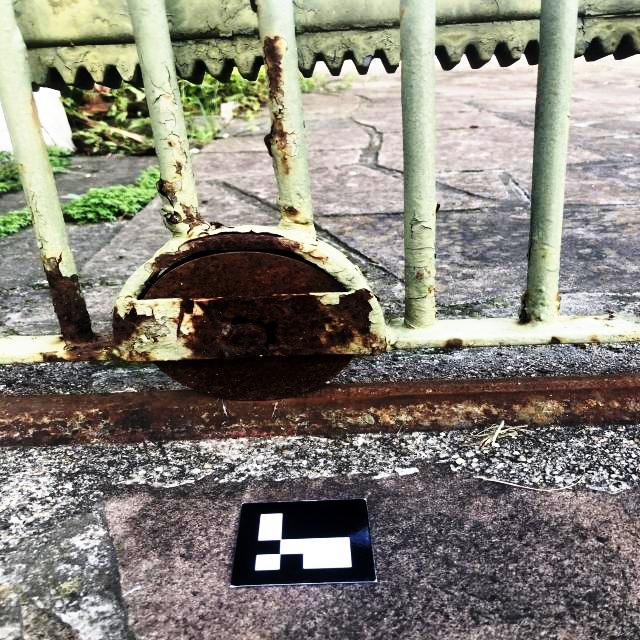Corrosion: (0, 251, 640, 445), (32, 252, 172, 363), (147, 232, 327, 280), (262, 34, 291, 175), (163, 202, 239, 238), (156, 177, 180, 208), (515, 293, 532, 325), (444, 338, 466, 349), (282, 204, 301, 216), (173, 159, 184, 177), (544, 335, 564, 344), (554, 296, 561, 313), (415, 270, 424, 279), (167, 139, 175, 149), (590, 337, 599, 342)
